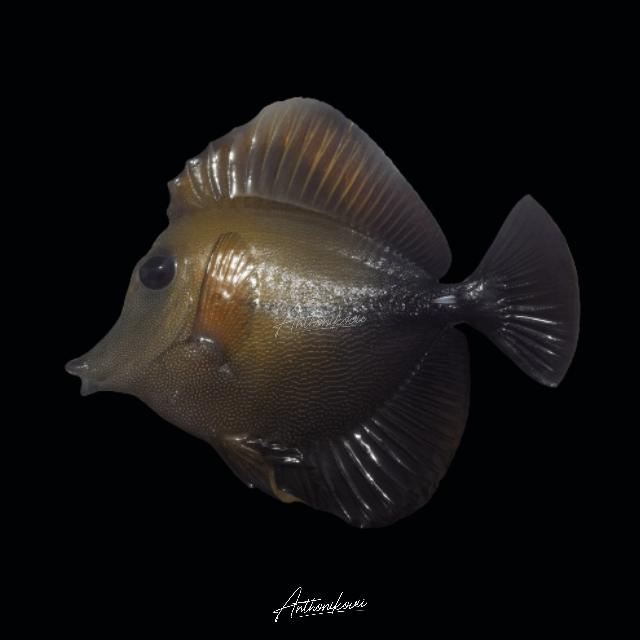Mulut: (46, 332, 120, 432)
Sirip Anal: (292, 322, 474, 542)
Sirip Dada: (172, 220, 276, 394)
Sirip Ekor: (470, 186, 594, 402)
Sirip Perut: (154, 90, 463, 282), (194, 423, 312, 525)
